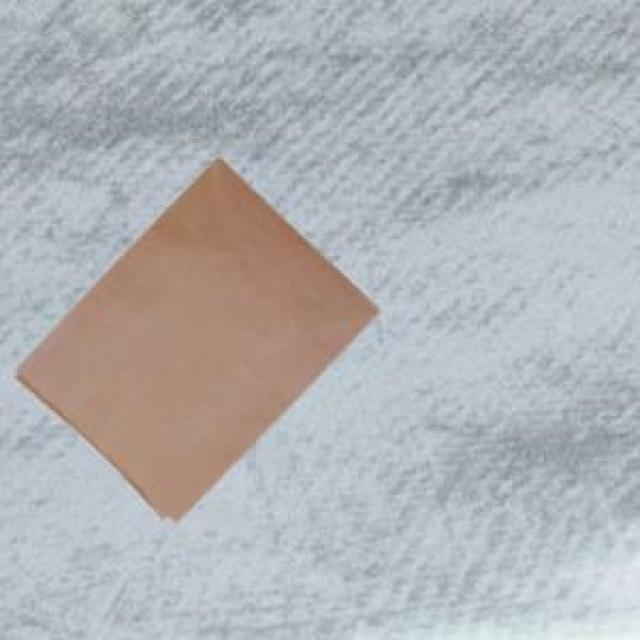paper: (13, 154, 376, 518)
